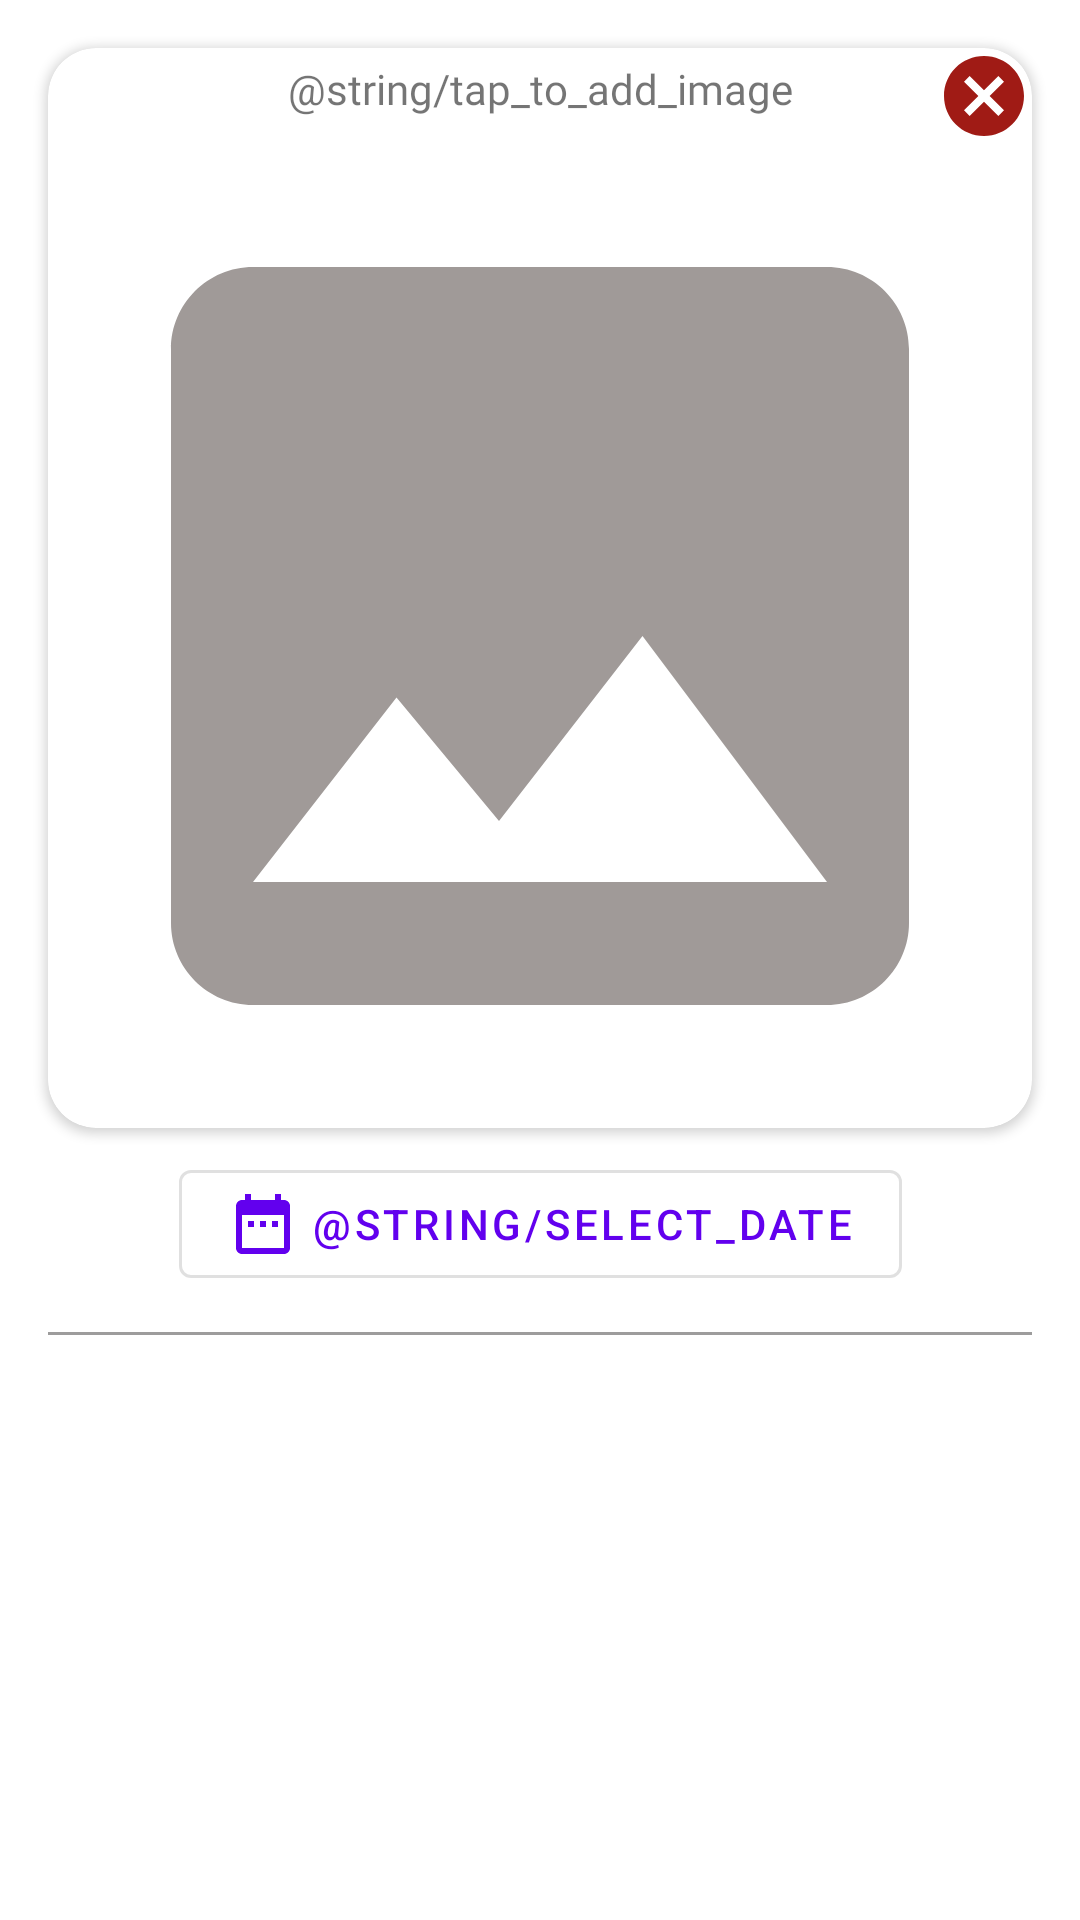

Locate icon controls on the screen. Image size 1080px×1920px, boxes as box(x1, y1, x2, y2).
cancel: box(944, 56, 1027, 136)
